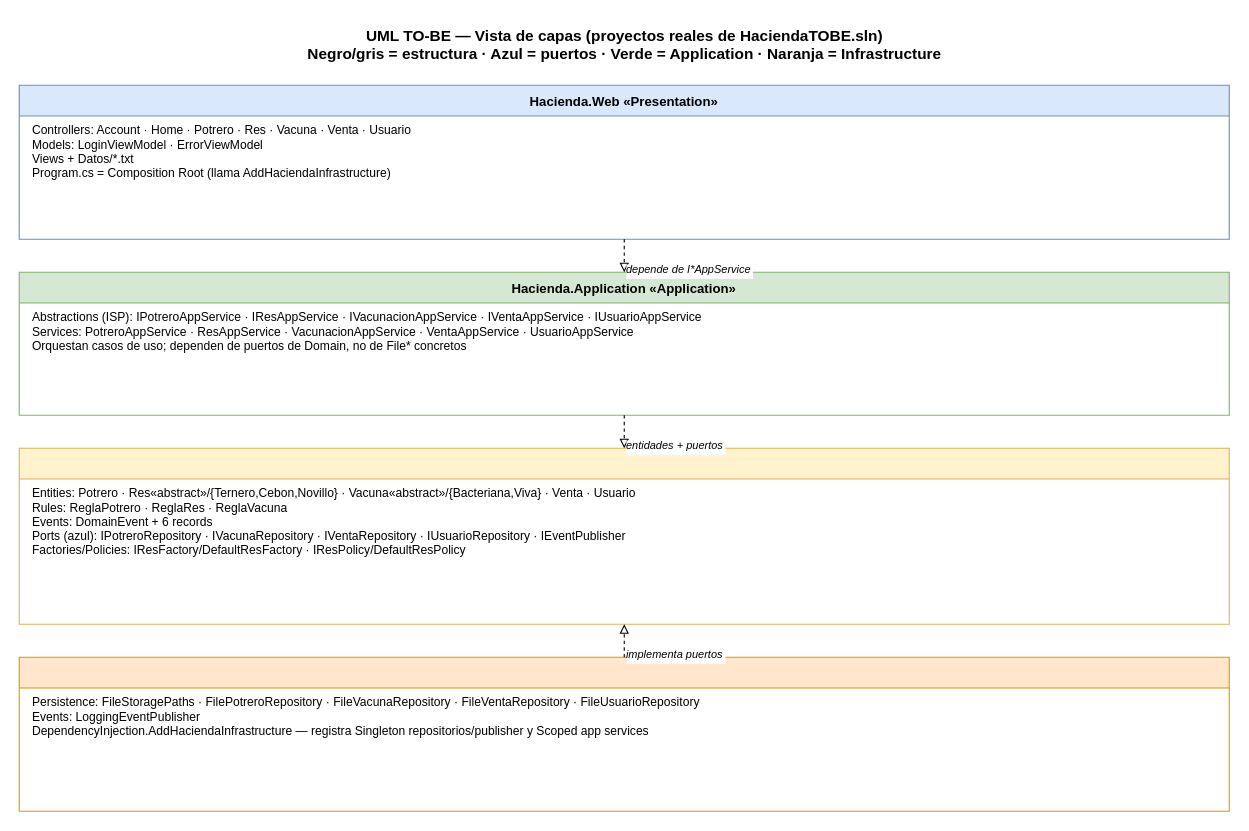
Some shapes in this 1249 by 831 pixel diagram are drawn without their labels. The shapes that lost their labels are listed below. From the top down, each one's box as (x1, y1, x2, y2) in pixels, then its label:
(18, 447, 1229, 624): Hacienda.Domain «Domain»
(18, 656, 1229, 811): Hacienda.Infrastructure «Infrastructure»
